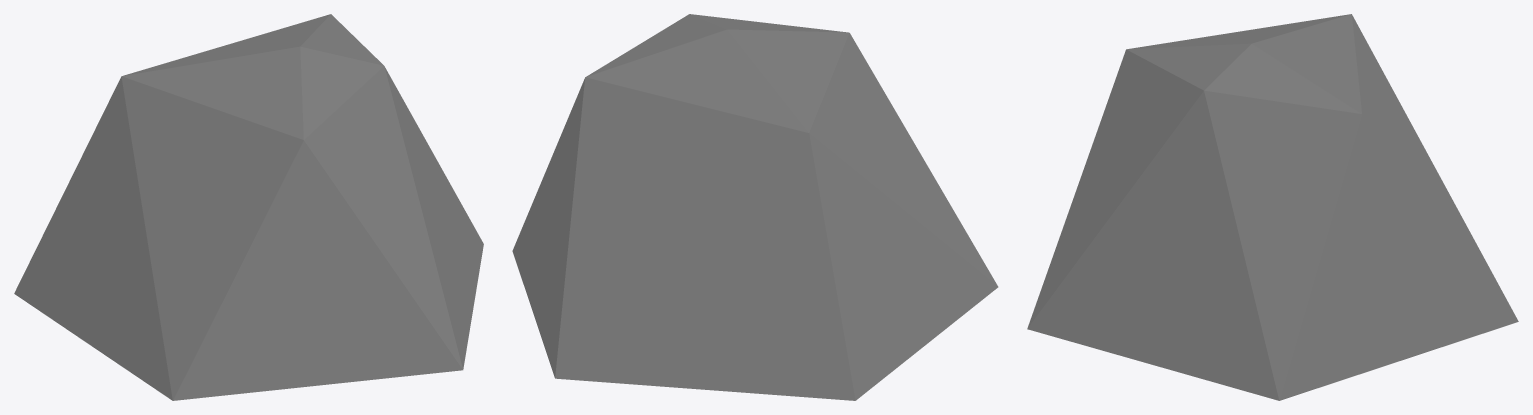
The model's file is object_58_lev1.glb.
3 views of the same model, side by side, from view 1: azimuth 30°, elevation 25°; view 2: azimuth 150°, elevation 25°; view 3: azimuth 270°, elevation 25° (orthographic).
Visible parts, largest first — view 1: object_58_lev1; view 2: object_58_lev1; view 3: object_58_lev1.
Boxes of the visible parts, x1=… form: object_58_lev1: x1=14, y1=14, x2=483, y2=400; object_58_lev1: x1=512, y1=14, x2=998, y2=400; object_58_lev1: x1=1027, y1=14, x2=1518, y2=400.
Size of the model in its own units: 0.2579 by 0.1562 by 0.2681.
1 material, 1 textured.
